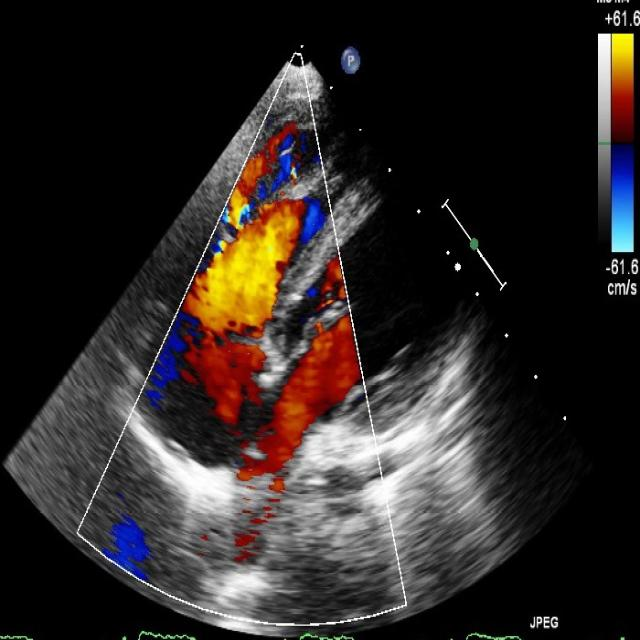ASDType2: (220, 328, 332, 488)
